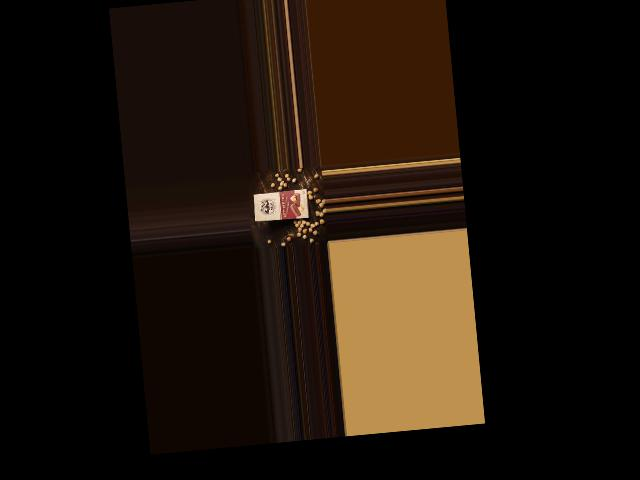chocolate: (251, 187, 311, 225)
